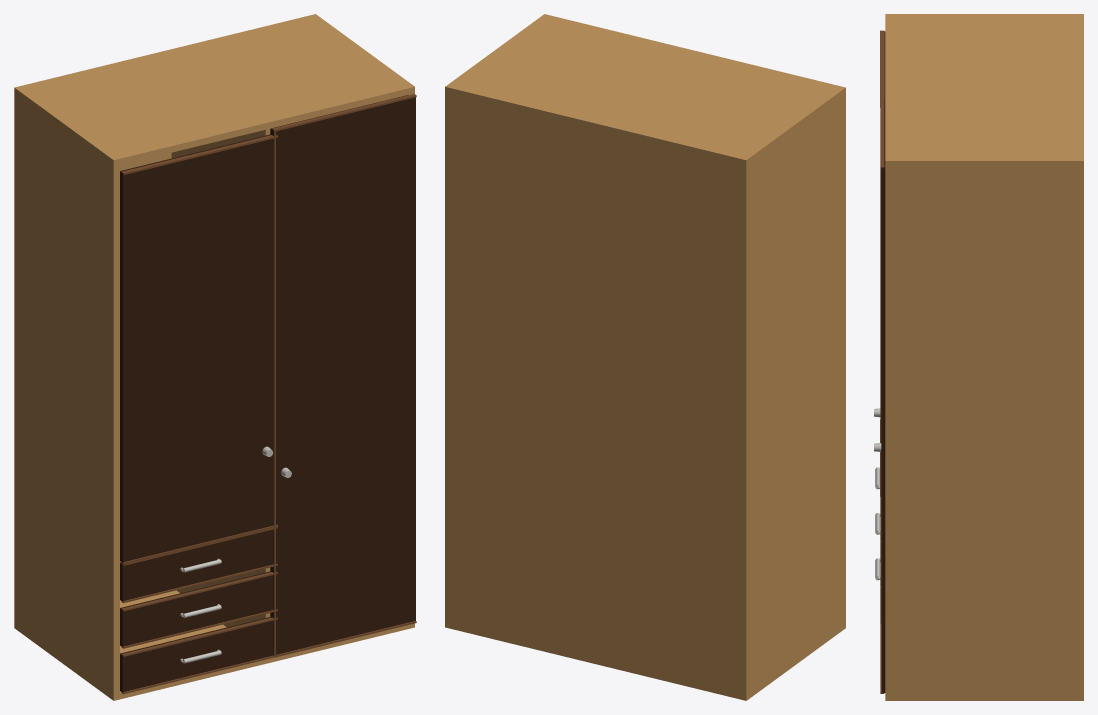
File: closet-CpynLtKq.glb
3 renders of one model, left to right at view 1: azimuth 30°, elevation 25°; view 2: azimuth 150°, elevation 25°; view 3: azimuth 270°, elevation 25°, orthographic.
Size of the model in its own units: 1.07 by 1.83 by 0.6436.
